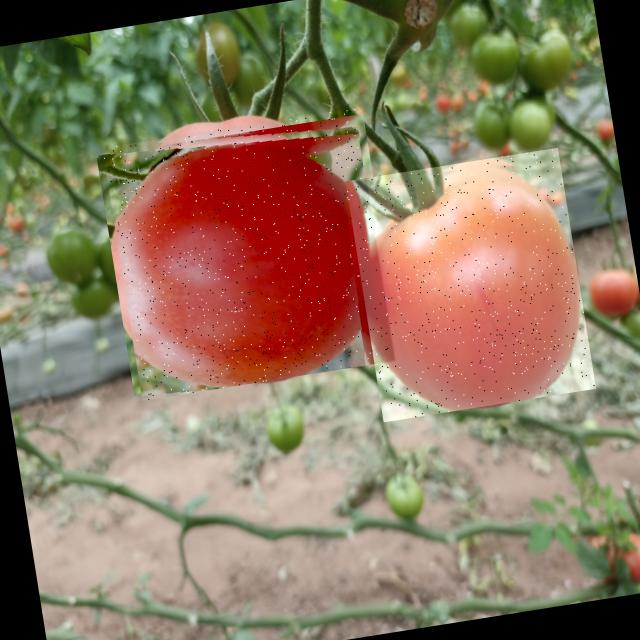Ripe Tomato: (102, 108, 396, 401), (346, 148, 596, 422)
